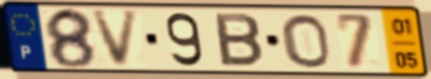7: (335, 12, 380, 71)
8: (42, 6, 100, 71)
9: (164, 11, 205, 68)
B: (212, 11, 266, 69)
O: (278, 12, 334, 70)
V: (89, 9, 142, 70)
